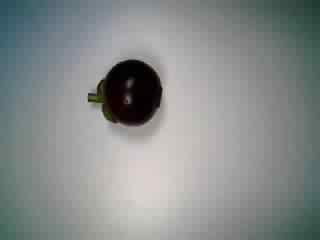mangosteen: (83, 56, 165, 135)
